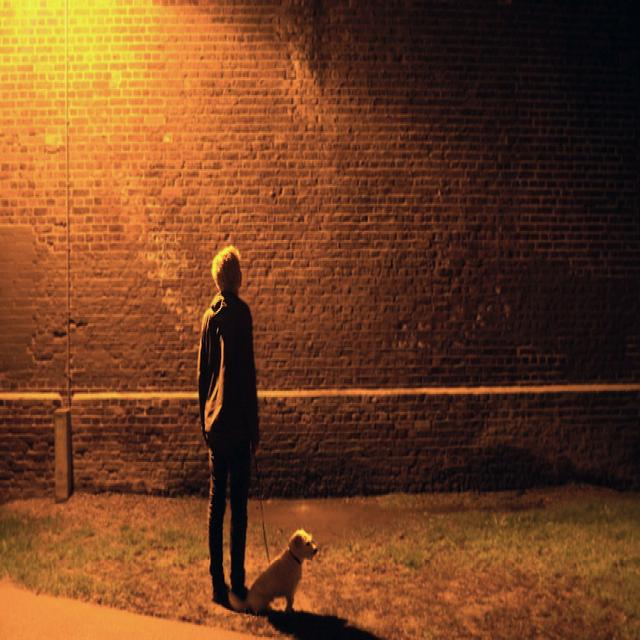People: (188, 205, 263, 573)
dog: (222, 501, 341, 640)
